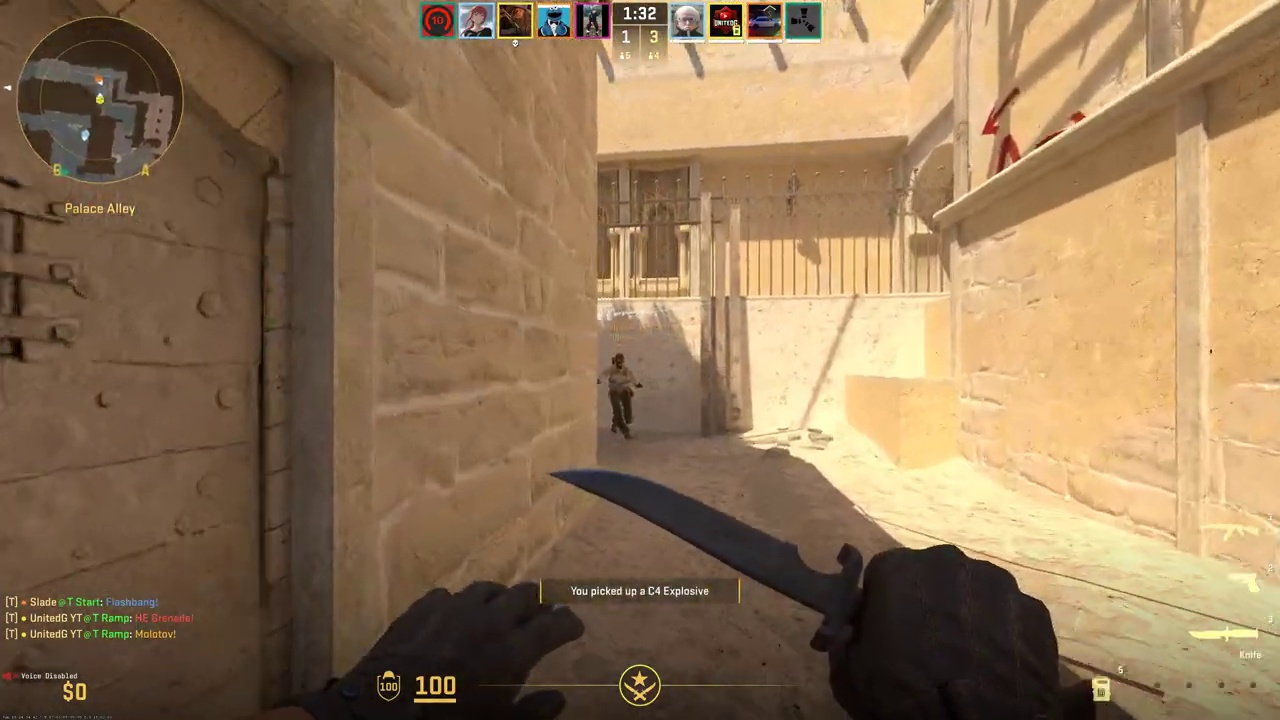Terrorist: (603, 353, 637, 437)
